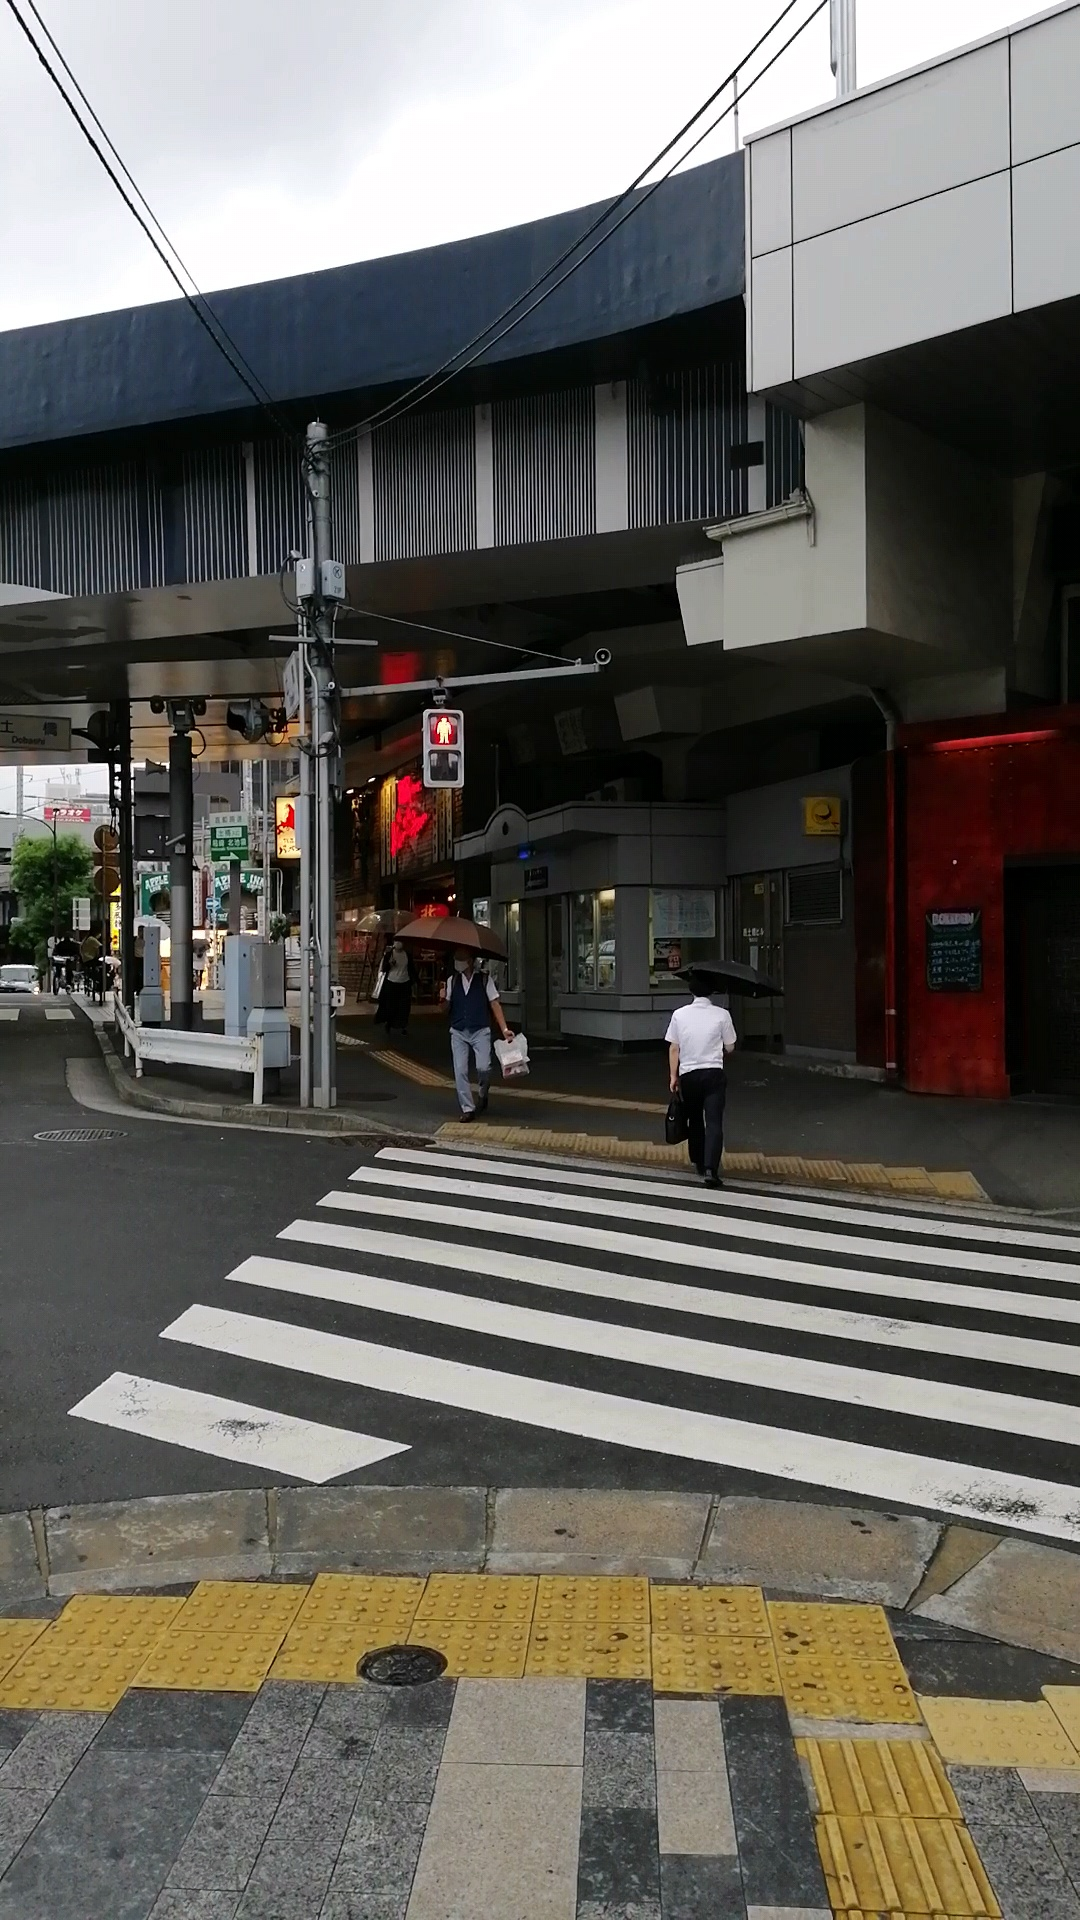red: (421, 709, 463, 789)
